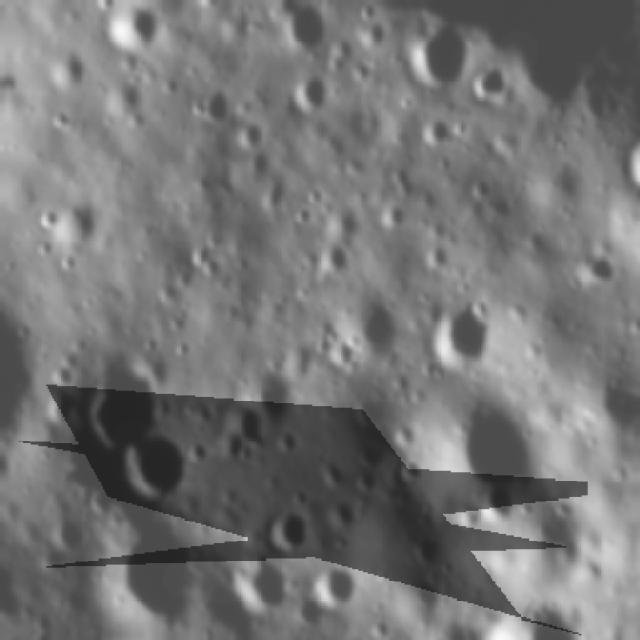crater: (429, 390, 556, 528), (87, 517, 210, 637), (68, 349, 168, 451), (394, 8, 484, 97), (423, 280, 499, 374), (112, 428, 196, 504), (224, 546, 296, 623), (242, 352, 302, 434), (208, 390, 270, 467), (36, 187, 109, 250), (268, 0, 342, 60), (346, 296, 406, 364), (263, 500, 322, 562), (108, 1, 169, 58), (42, 38, 92, 92), (192, 72, 237, 131), (285, 72, 337, 119), (317, 557, 361, 608), (312, 238, 356, 287), (289, 586, 333, 631), (184, 238, 228, 282), (579, 251, 624, 294), (408, 110, 454, 152), (228, 116, 269, 156), (374, 194, 412, 228), (419, 238, 453, 274), (465, 173, 493, 202), (290, 202, 315, 230), (305, 184, 324, 210)
